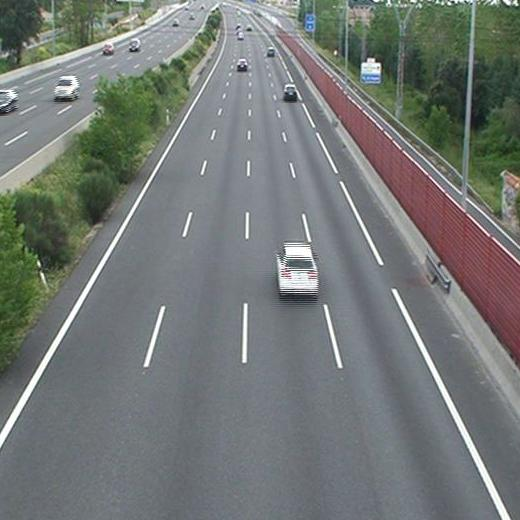car: (275, 242, 319, 295), (283, 85, 297, 100), (236, 59, 247, 70), (267, 47, 274, 56)
